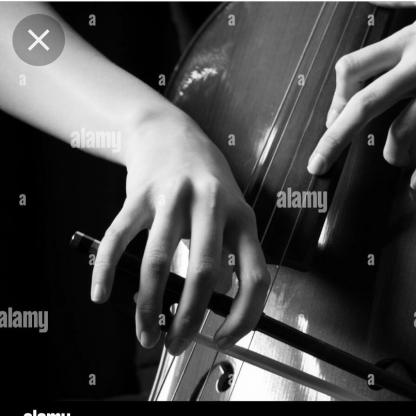bad: (79, 168, 289, 353)
